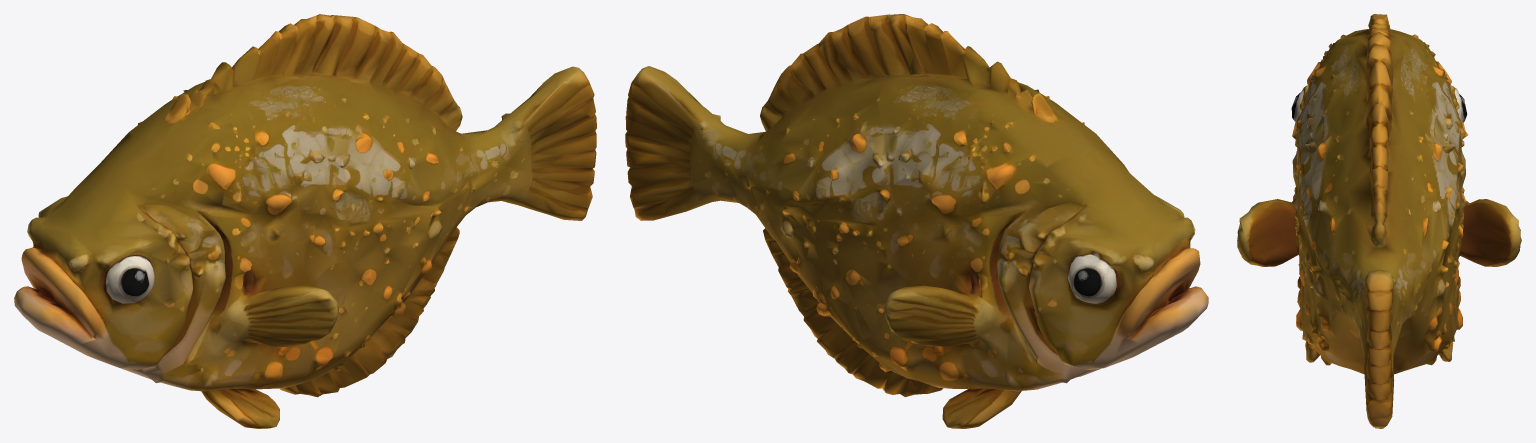
Rendered from fish-kambala.glb.
The picture shows the model from 3 angles, left to right: view 1: azimuth 30°, elevation 25°; view 2: azimuth 150°, elevation 25°; view 3: azimuth 270°, elevation 25°; orthographic projection.
Visible parts, largest first — view 1: tripo_node_a3fc7d52-4ff2-47d8-a28e-53b7f7d2ae36; view 2: tripo_node_a3fc7d52-4ff2-47d8-a28e-53b7f7d2ae36; view 3: tripo_node_a3fc7d52-4ff2-47d8-a28e-53b7f7d2ae36.
Boxes of the visible parts, <box> form: tripo_node_a3fc7d52-4ff2-47d8-a28e-53b7f7d2ae36: <box>14,14,596,428</box>; tripo_node_a3fc7d52-4ff2-47d8-a28e-53b7f7d2ae36: <box>625,14,1208,428</box>; tripo_node_a3fc7d52-4ff2-47d8-a28e-53b7f7d2ae36: <box>1237,14,1521,428</box>.
Bounding box in the file's own units: 0.9998 × 0.6352 × 0.4298.
Materials: 1 (1 with a texture image).
